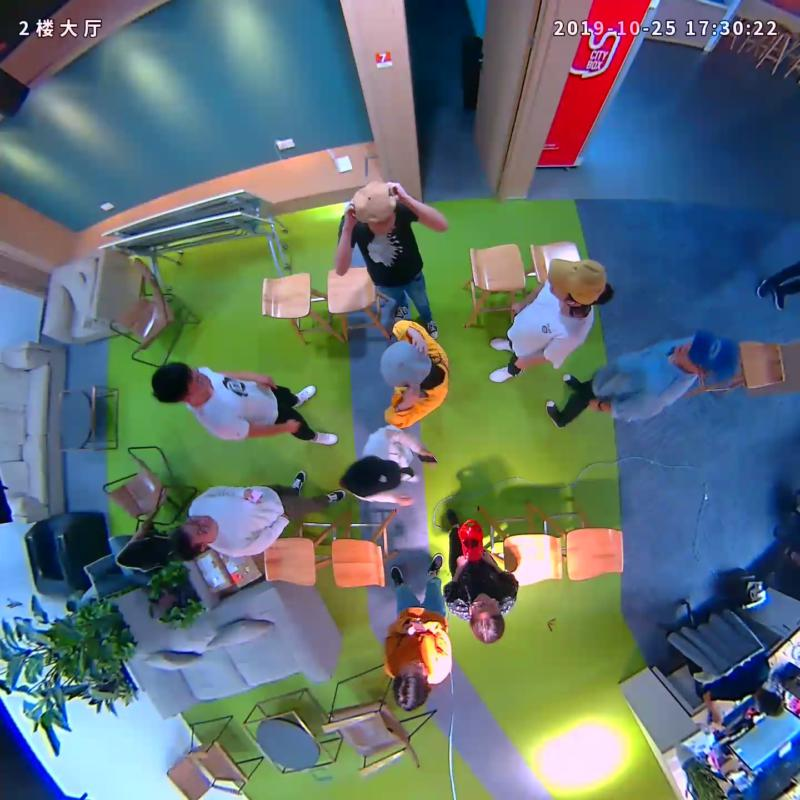head: (672, 328, 739, 385), (548, 256, 608, 309), (349, 177, 397, 236), (150, 361, 211, 405), (381, 339, 434, 387), (346, 455, 402, 499), (170, 514, 219, 560), (393, 660, 429, 713), (467, 592, 504, 643)
